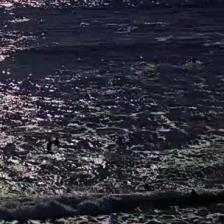surfer: (188, 57, 198, 63)
